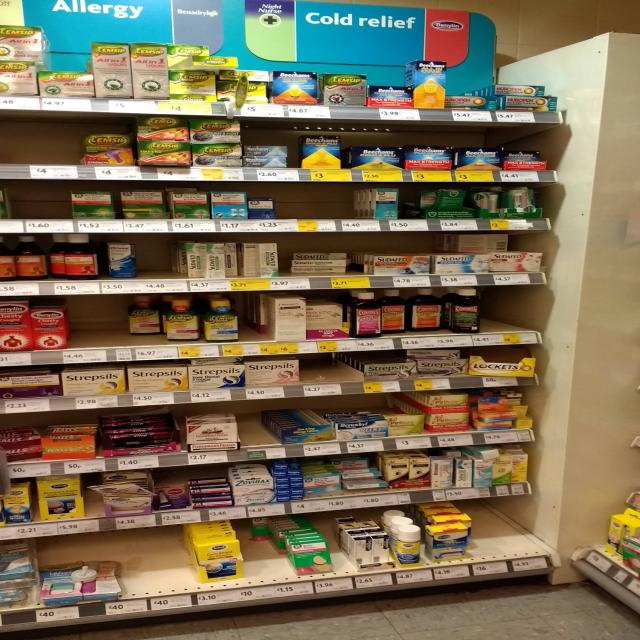unorganised: (1, 234, 97, 281), (380, 288, 450, 336), (71, 187, 166, 222), (128, 296, 199, 342), (91, 476, 156, 516), (289, 250, 353, 278), (105, 238, 139, 282), (415, 354, 471, 379), (425, 187, 470, 215), (340, 469, 391, 493), (235, 236, 263, 279), (376, 182, 406, 221), (447, 89, 495, 111), (459, 232, 509, 253), (503, 149, 551, 169), (248, 191, 275, 223), (462, 448, 509, 463)
